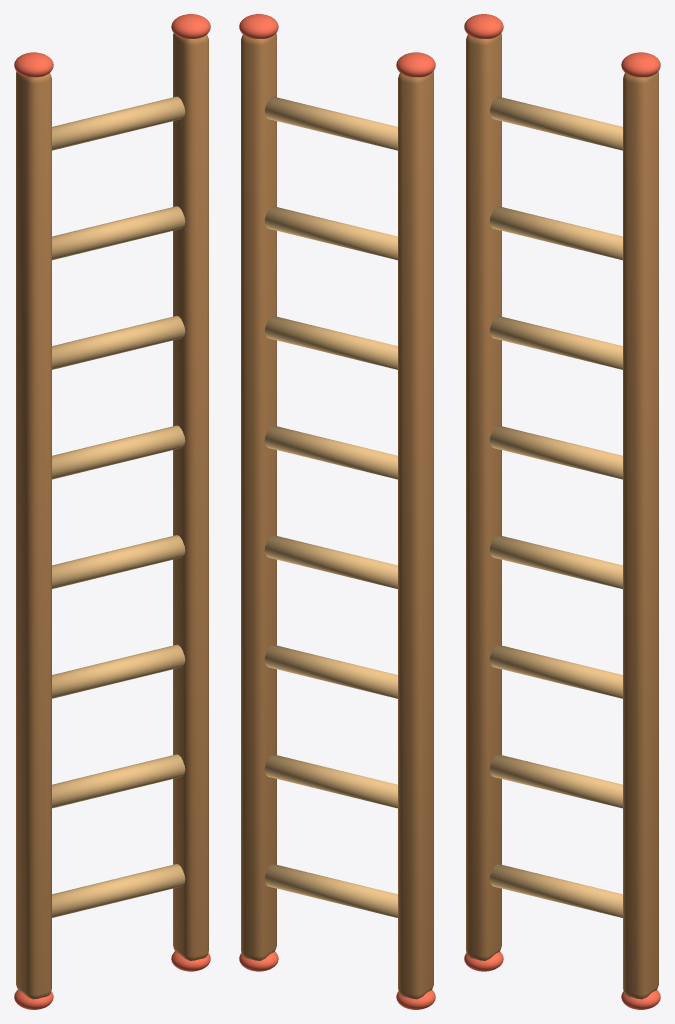
Rendered from ladder.glb.
The picture shows the model from 3 angles, left to right: view 1: azimuth 30°, elevation 25°; view 2: azimuth 150°, elevation 25°; view 3: azimuth 330°, elevation 25°; orthographic projection.
Parts seen in each view (by area): view 1: Ladder; view 2: Ladder; view 3: Ladder.
Part boxes in pixels (box(x1,y1,x2,y2)): Ladder: box(14, 14, 210, 1009); Ladder: box(239, 14, 435, 1009); Ladder: box(464, 14, 660, 1009).
Size of the model in its own units: 0.95 by 4.51 by 0.17.
